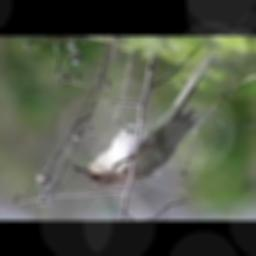Cuckoo: (73, 49, 217, 188)
